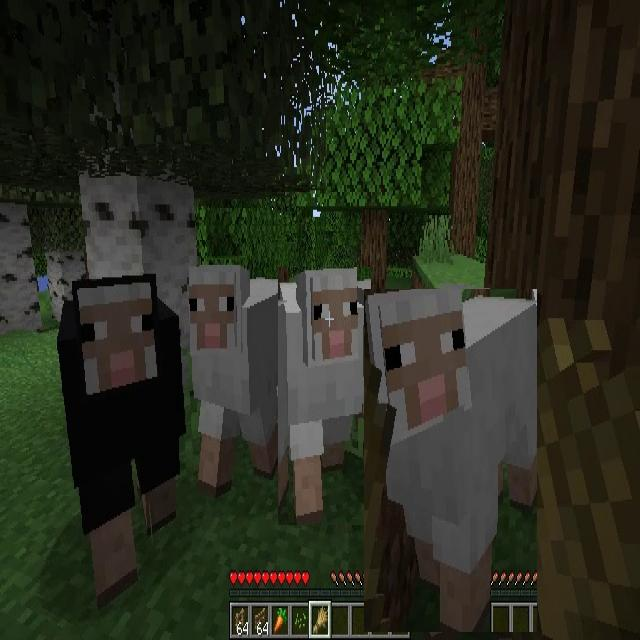sheep: (364, 289, 537, 632), (59, 272, 187, 600), (278, 267, 371, 525), (189, 264, 291, 494)
